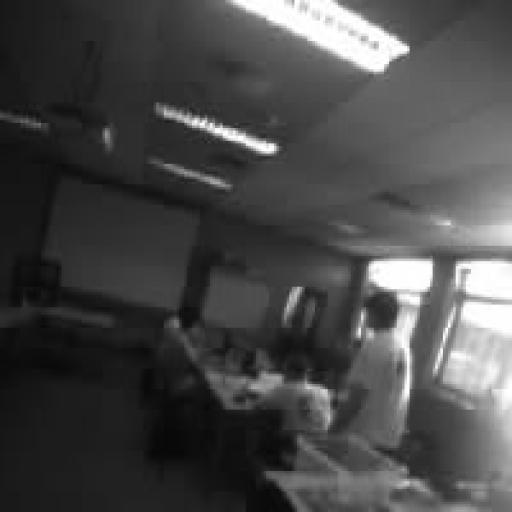human: (331, 290, 412, 450), (149, 308, 204, 460), (256, 354, 332, 432), (154, 308, 202, 396)
